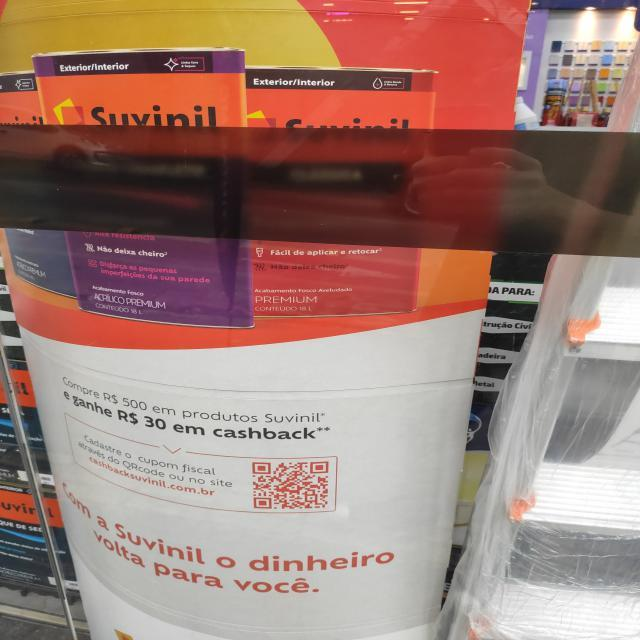qrcode: (253, 462, 330, 510)
